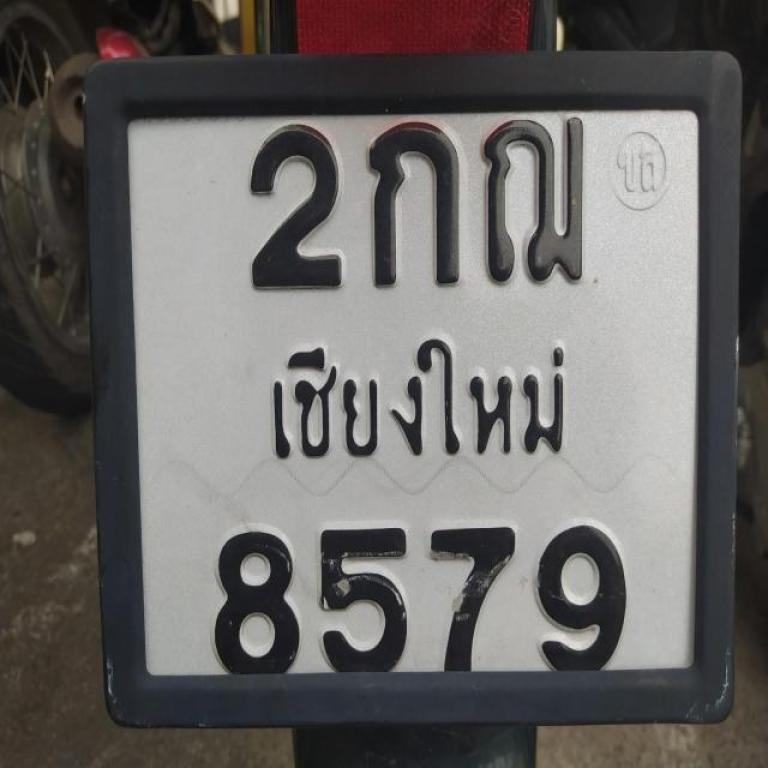license plate: (77, 43, 750, 733)
